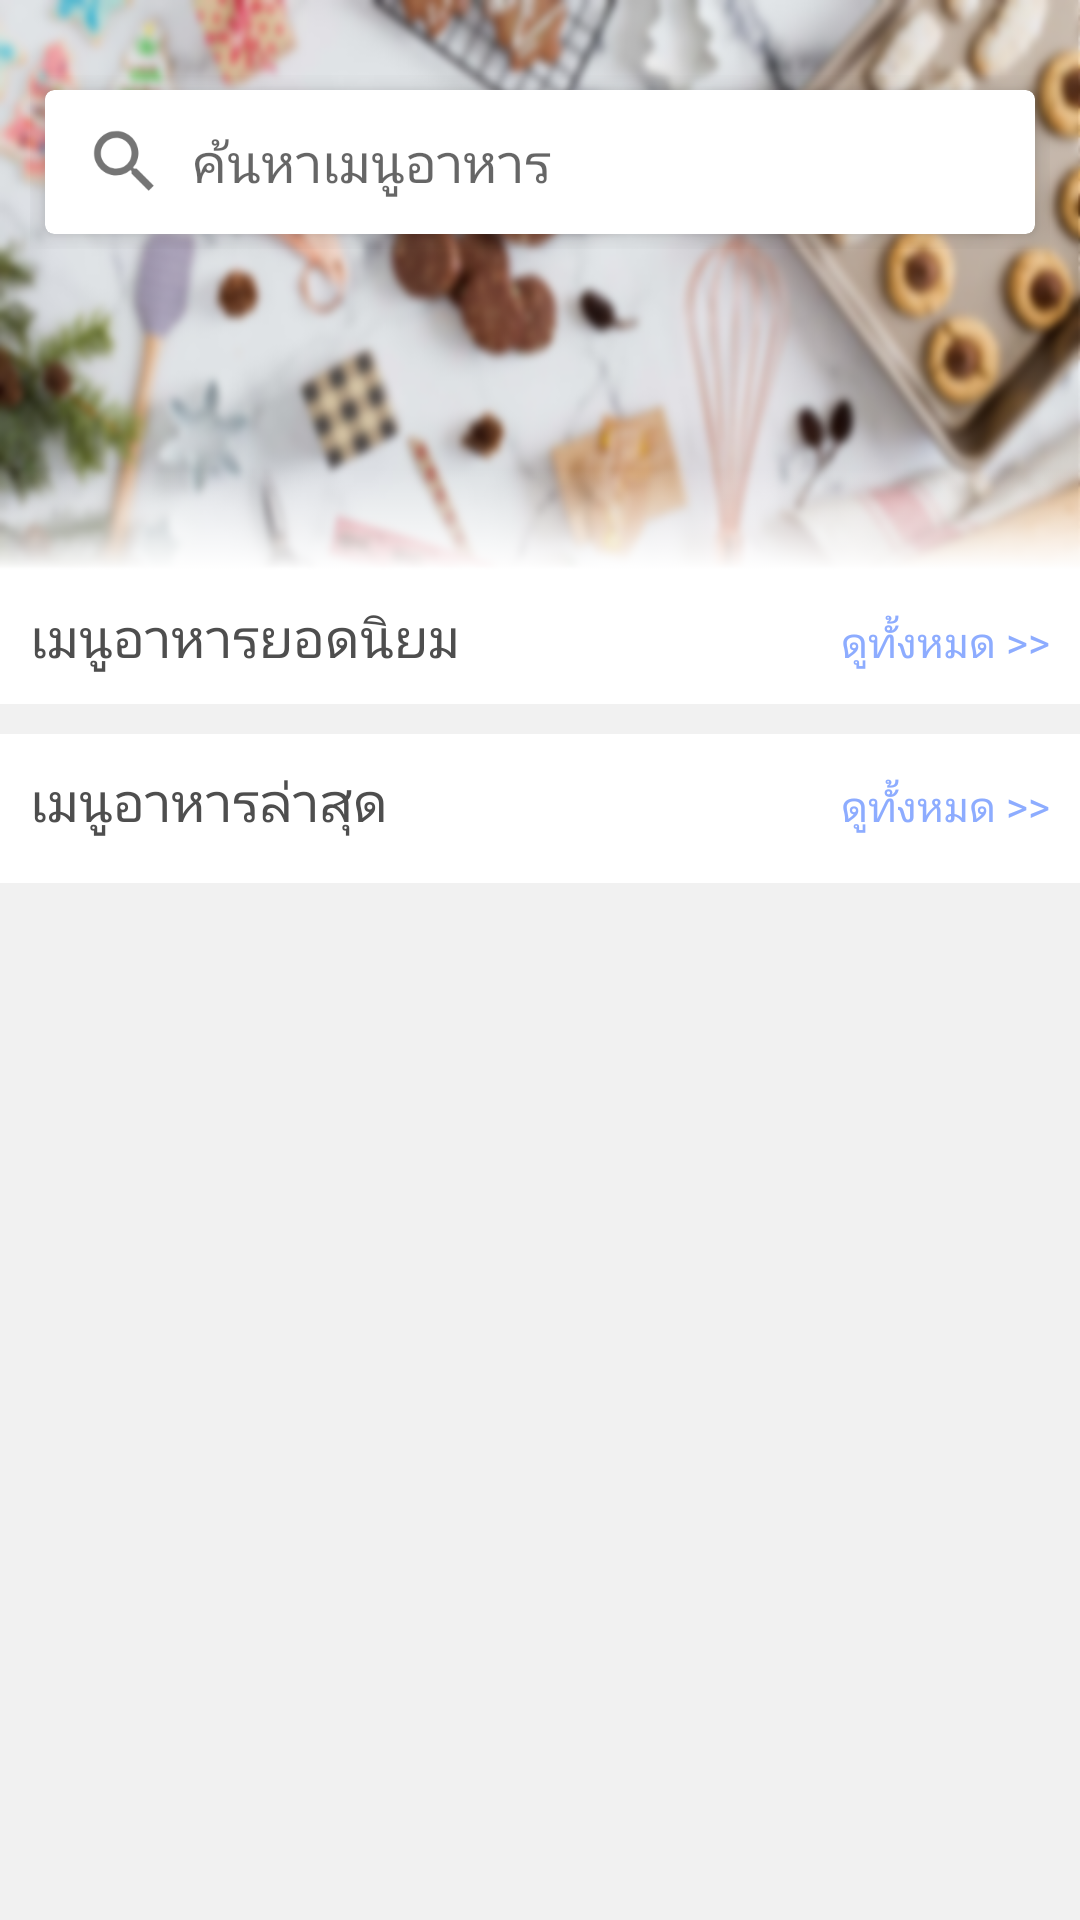

Icons on this 1080 x 1920 Android screen, each with the point to tap as (x,y):
search: (124,161)
